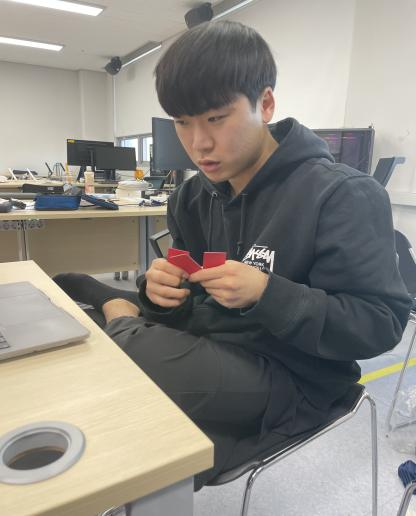ThreeHwatoo: (162, 241, 229, 280)
